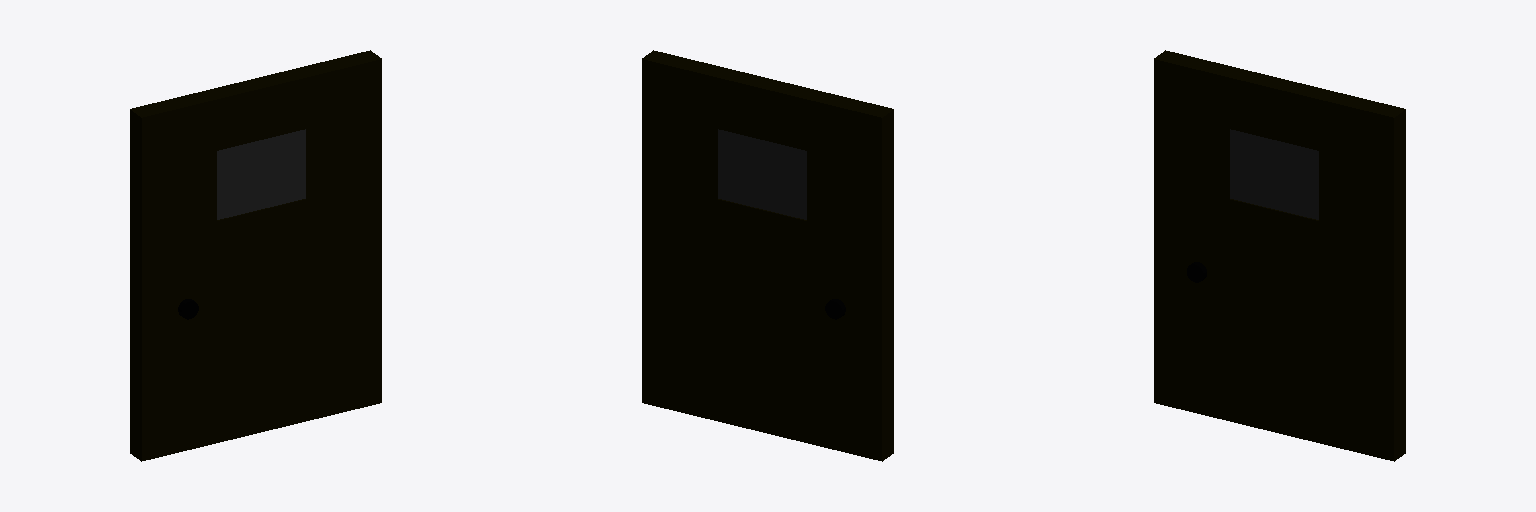
The model's file is door.obj.
3 renders of one model, left to right at view 1: azimuth 30°, elevation 25°; view 2: azimuth 150°, elevation 25°; view 3: azimuth 330°, elevation 25°, orthographic.
Parts seen in each view (by area): view 1: Cube, Cube.001; view 2: Cube, Cube.001; view 3: Cube, Cube.001.
Boxes of the visible parts, box(x1,y1,x2,y2) form: Cube: box(130, 50, 381, 461); Cube.001: box(217, 129, 305, 219); Cube: box(642, 50, 893, 461); Cube.001: box(718, 129, 806, 219); Cube: box(1154, 50, 1405, 461); Cube.001: box(1230, 129, 1318, 219).
Bounding box in the file's own units: 2.2 × 3 × 0.3001.